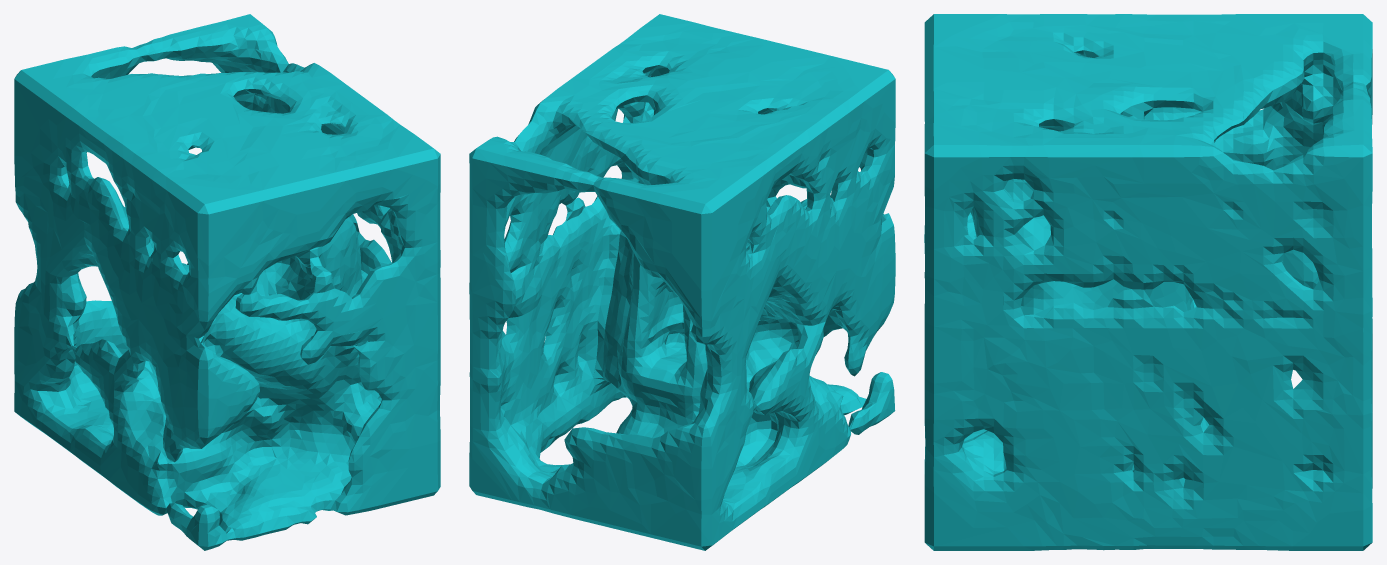
3 views of the same model, side by side, from view 1: azimuth 30°, elevation 25°; view 2: azimuth 150°, elevation 25°; view 3: azimuth 270°, elevation 25° (orthographic). The views are drawn at different scales.
Parts seen in each view (by area): view 1: Liquid_Domain; view 2: Liquid_Domain; view 3: Liquid_Domain.
Boxes of the visible parts, <box> form: Liquid_Domain: <box>14,14,440,550</box>; Liquid_Domain: <box>469,14,895,550</box>; Liquid_Domain: <box>924,14,1372,550</box>.
Bounding box in the file's own units: 79.13 × 108 × 108.
